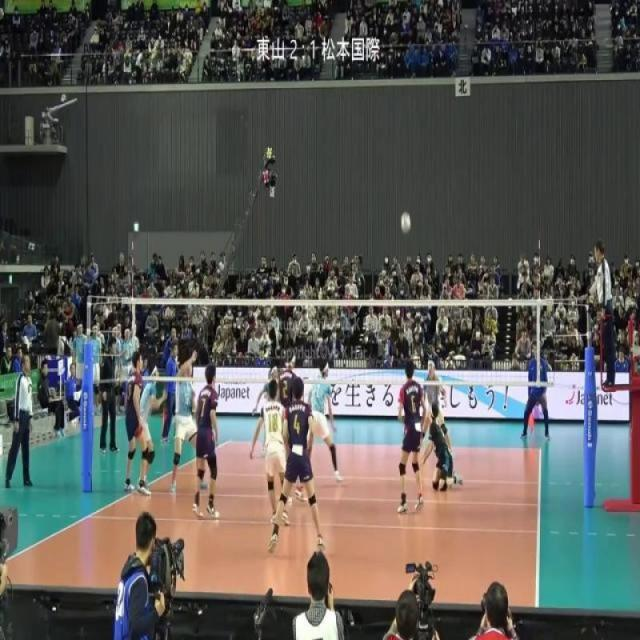volleyball: (401, 212, 412, 234)
